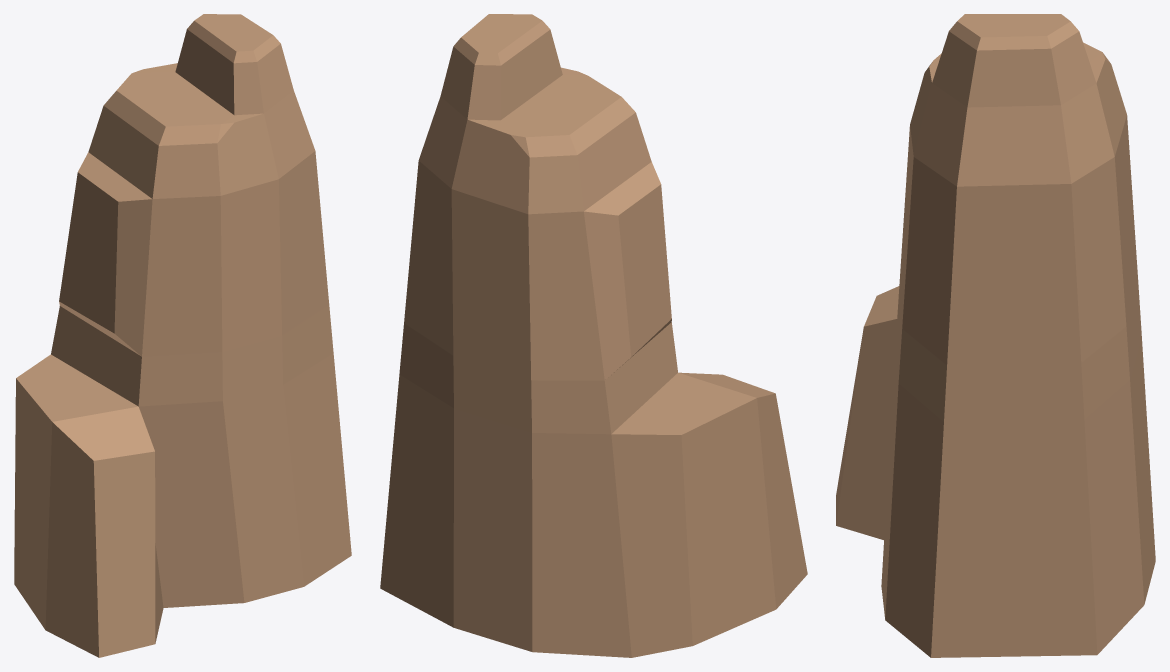
The model's file is big_rock_2.fbx.
3 renders of one model, left to right at view 1: azimuth 30°, elevation 25°; view 2: azimuth 150°, elevation 25°; view 3: azimuth 270°, elevation 25°, orthographic. The views are drawn at different scales.
Visible parts, largest first — view 1: Cube.001; view 2: Cube.001; view 3: Cube.001.
Part boxes in pixels (left/top/right/bottom): Cube.001: left=14, top=14, right=351, bottom=657; Cube.001: left=380, top=14, right=807, bottom=657; Cube.001: left=836, top=14, right=1155, bottom=657.
Size of the model in its own units: 0.3348 by 0.5413 by 0.2662.
